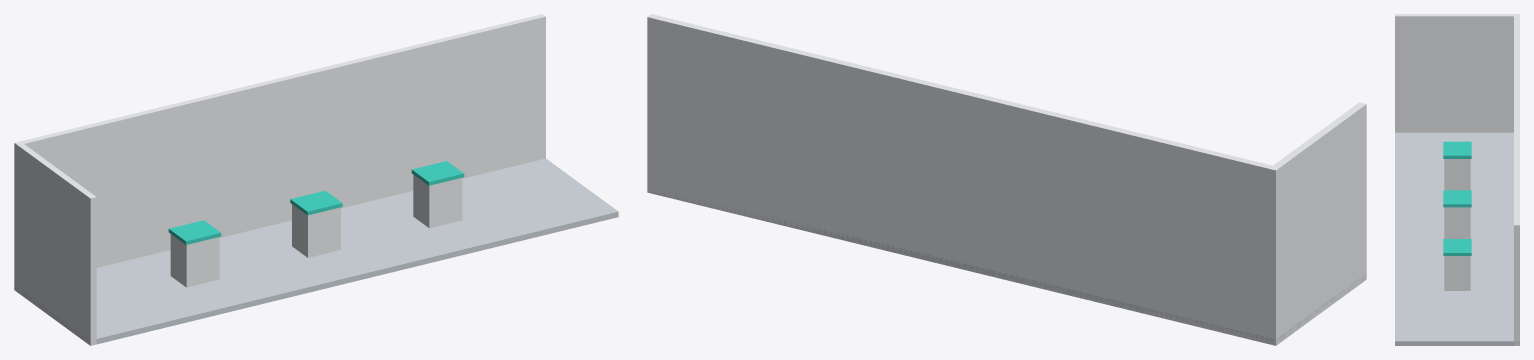
The picture shows the model from 3 angles, left to right: view 1: azimuth 30°, elevation 25°; view 2: azimuth 150°, elevation 25°; view 3: azimuth 270°, elevation 25°; orthographic projection. The views are drawn at different scales.
Parts seen in each view (by area): view 1: Exhibition Booth Concept; view 2: Exhibition Booth Concept; view 3: Exhibition Booth Concept.
Boxes of the visible parts, x1=… form: Exhibition Booth Concept: x1=14, y1=14, x2=618, y2=345; Exhibition Booth Concept: x1=647, y1=14, x2=1366, y2=345; Exhibition Booth Concept: x1=1395, y1=14, x2=1519, y2=345.
Size of the model in its own units: 12 by 3.2 by 3.
